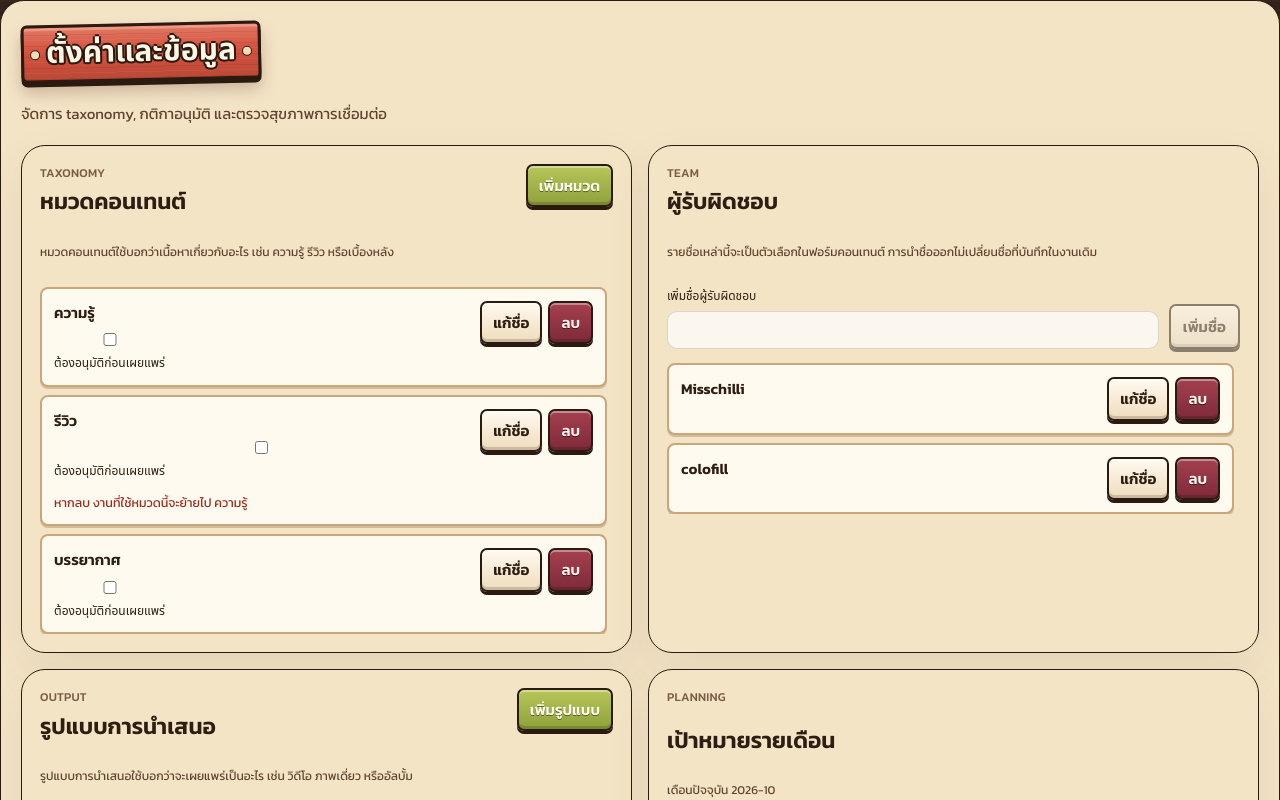
Test: SettingsWorkspace › persists renamed owners on existing content when saving the settings name
Step 1. Click the button with aria-label "แก้ชื่อ Misschilli" → (1138, 399), box [1107, 377, 1169, 421]
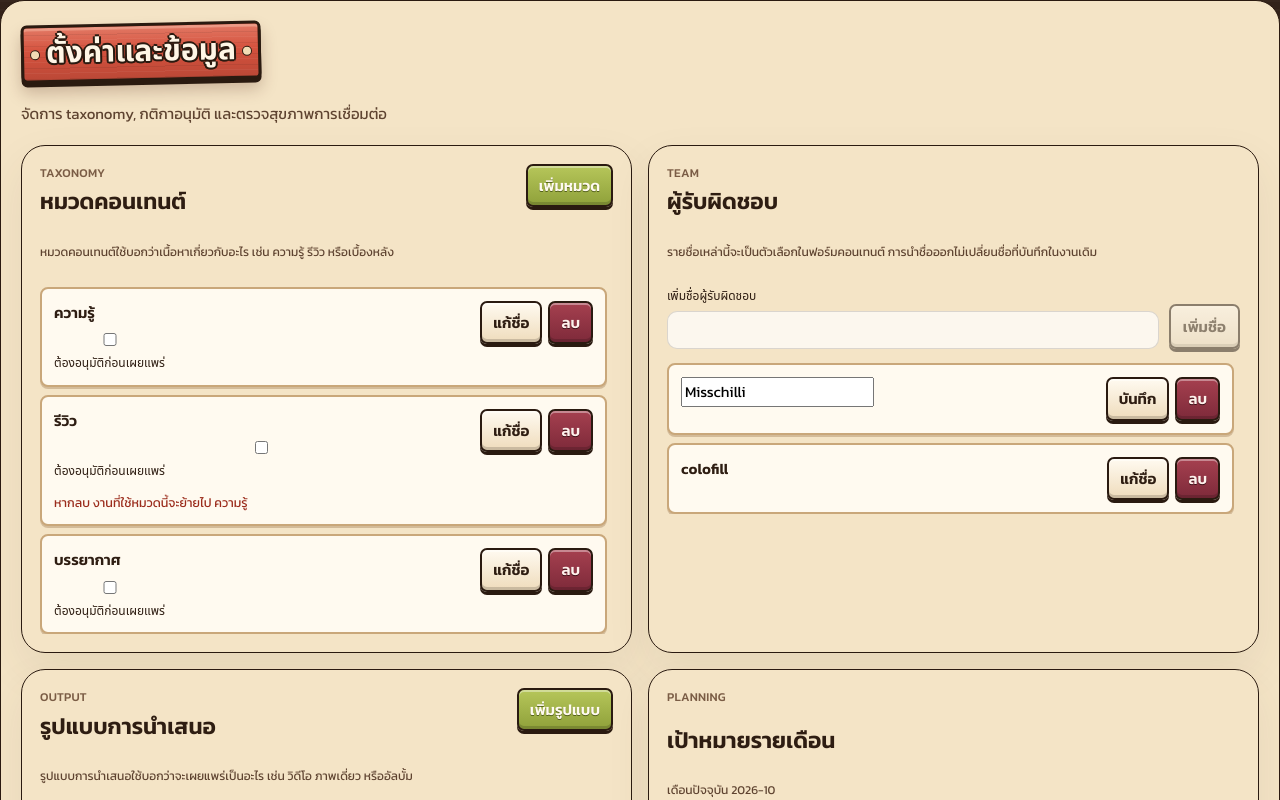
Step 2. Replace the text in the field named "ชื่อผู้รับผิดชอบ Misschilli" with "Big boss" → (778, 392), box [681, 377, 874, 407]
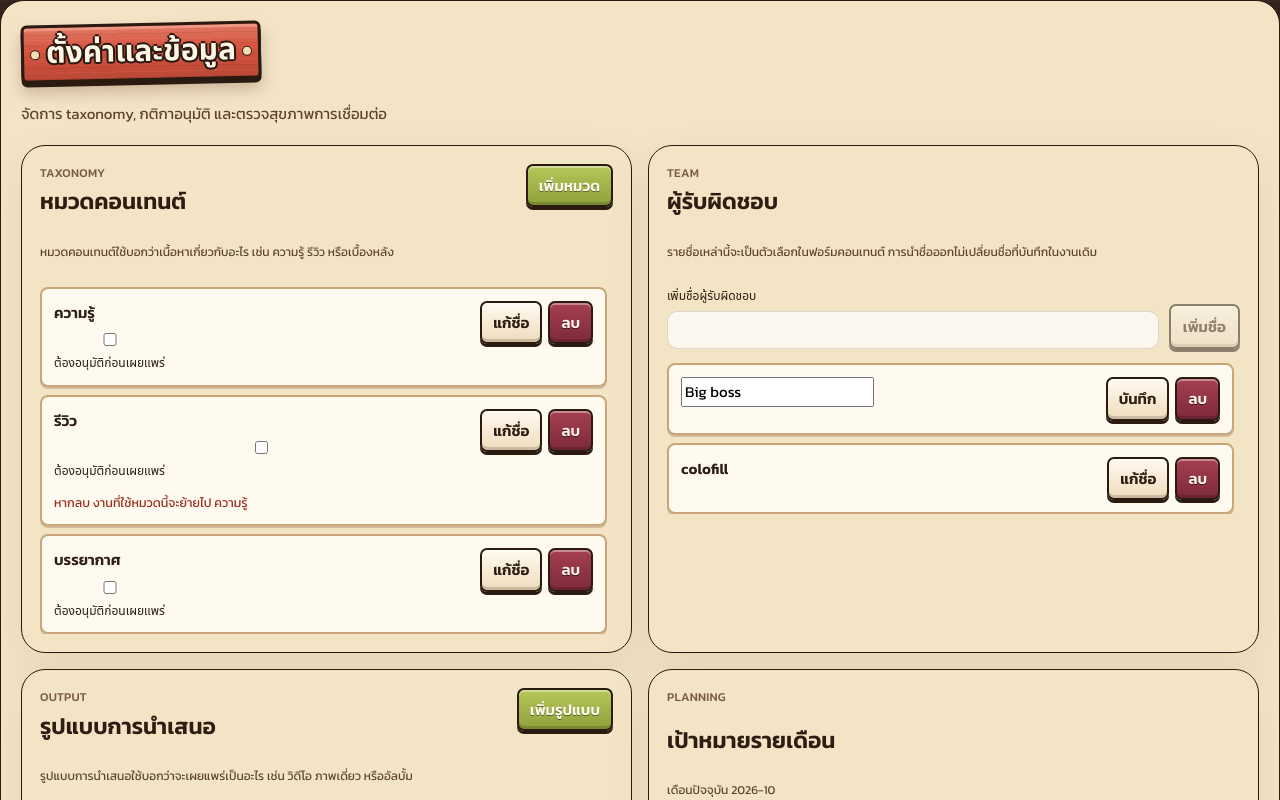
Step 3. Click the button with aria-label "บันทึกชื่อ Misschilli" → (1138, 399), box [1106, 377, 1169, 421]
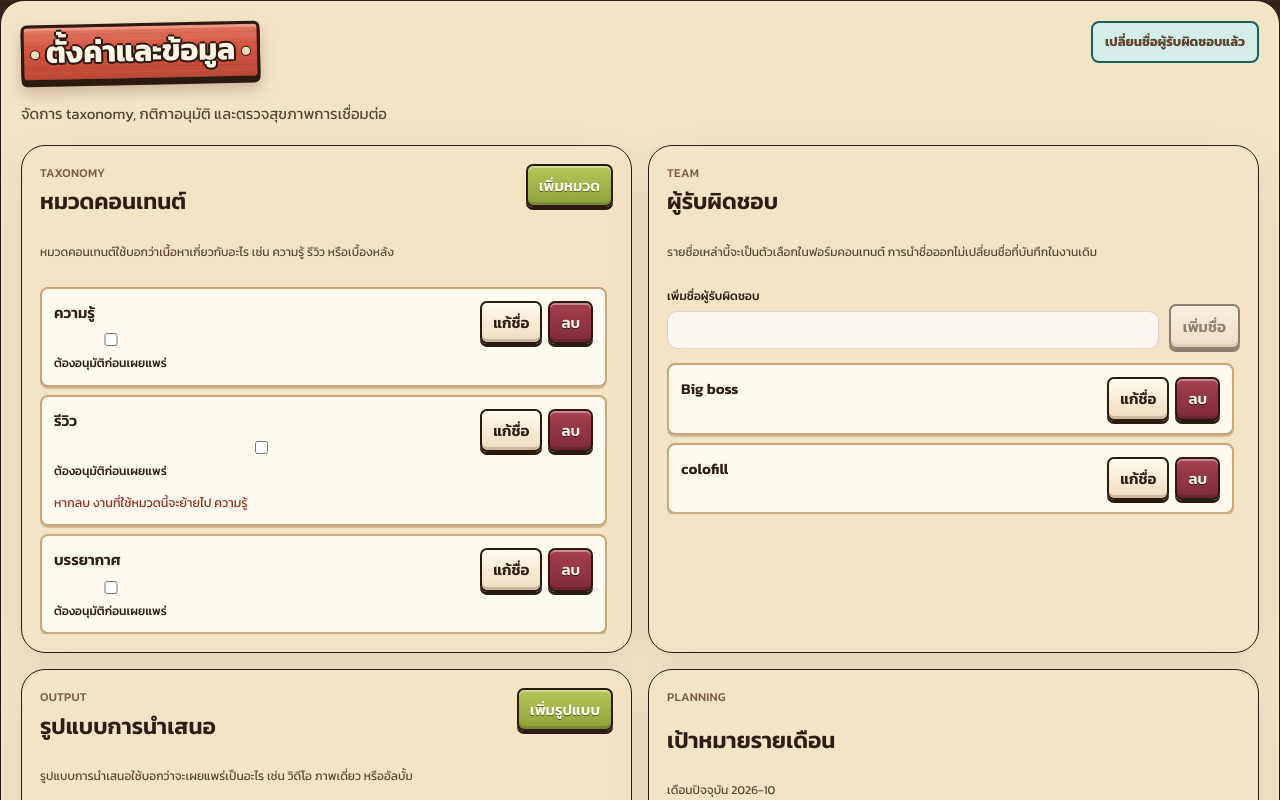
Check: the text "เปลี่ยนชื่อผู้รับผิดชอบแล้ว" is shown, box [1091, 21, 1259, 63]
